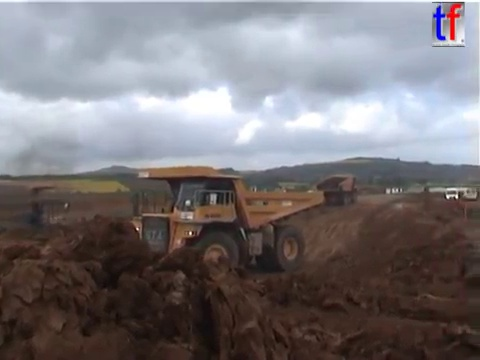truck: (125, 164, 327, 280), (313, 171, 359, 207)
